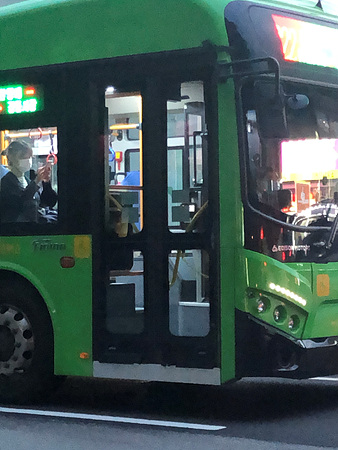entrance: (92, 59, 220, 367)
